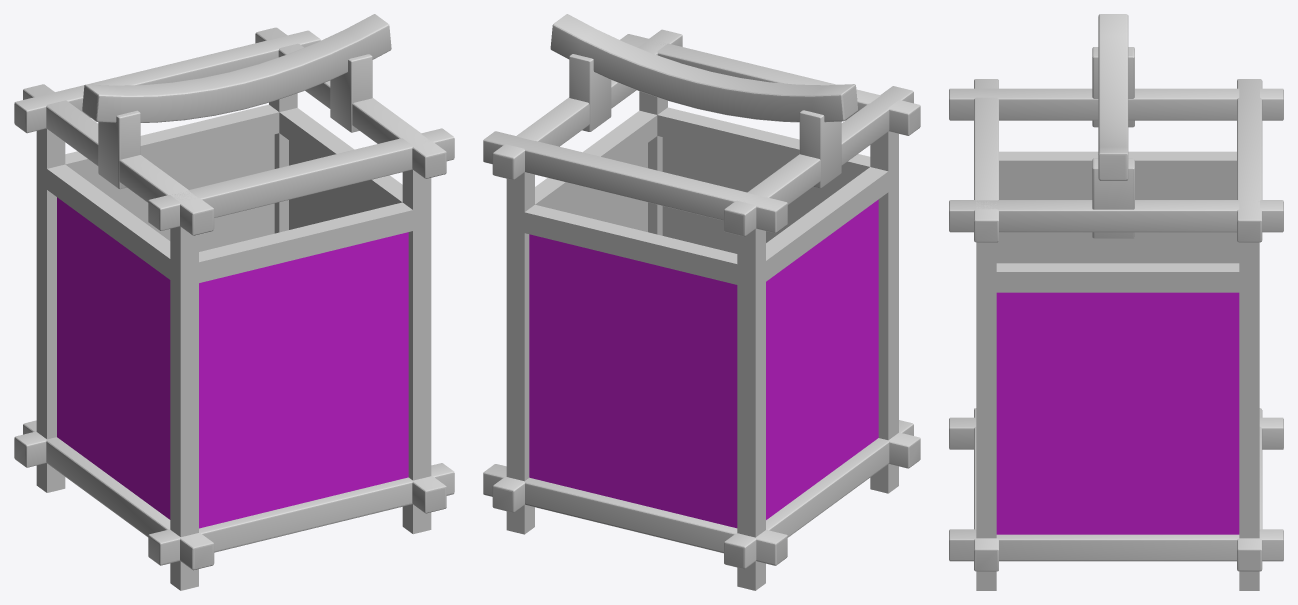
File: PaperLamp5.fbx
3 renders of one model, left to right at view 1: azimuth 30°, elevation 25°; view 2: azimuth 150°, elevation 25°; view 3: azimuth 270°, elevation 25°, orthographic.
Parts seen in each view (by area): view 1: Box020; view 2: Box020; view 3: Box020.
Boxes of the visible parts, left/top/right/bottom form: Box020: left=14, top=14, right=454, bottom=590; Box020: left=483, top=14, right=920, bottom=590; Box020: left=949, top=14, right=1283, bottom=590.
Bounding box in the file's own units: 15.99 × 23.53 × 15.96.
